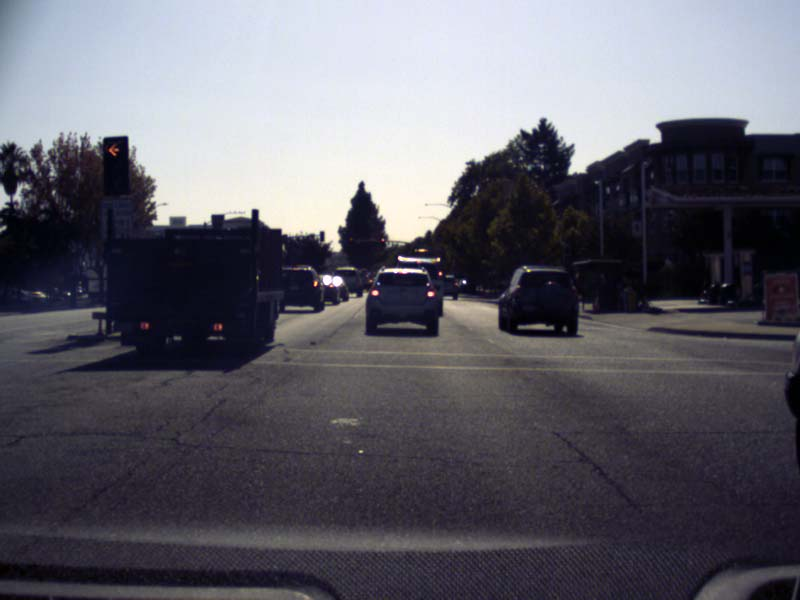Red: (103, 136, 128, 195), (348, 236, 353, 246)
Yellow: (379, 236, 385, 246)
